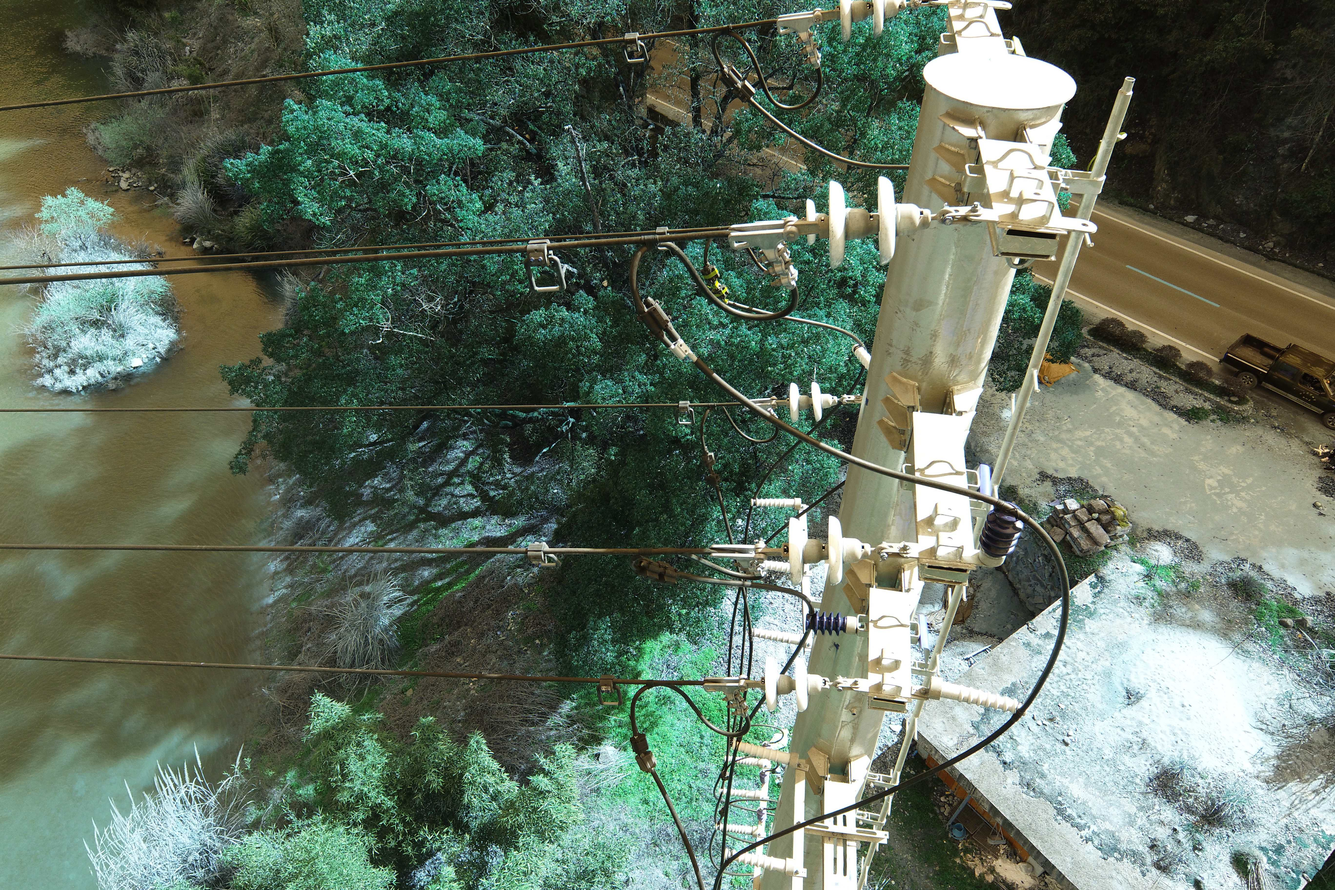severe_soiling_no_discharge_whole: (835, 0, 908, 45)
